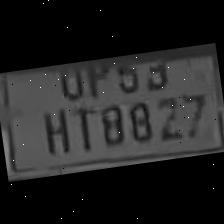2: (148, 90, 184, 143)
3: (134, 50, 172, 92)
5: (108, 55, 142, 95)
7: (175, 86, 209, 140)
8: (94, 97, 128, 150), (122, 96, 155, 146)
H: (35, 102, 73, 156)
P: (80, 56, 114, 98)
T: (64, 100, 98, 153)
U: (52, 60, 86, 100)
